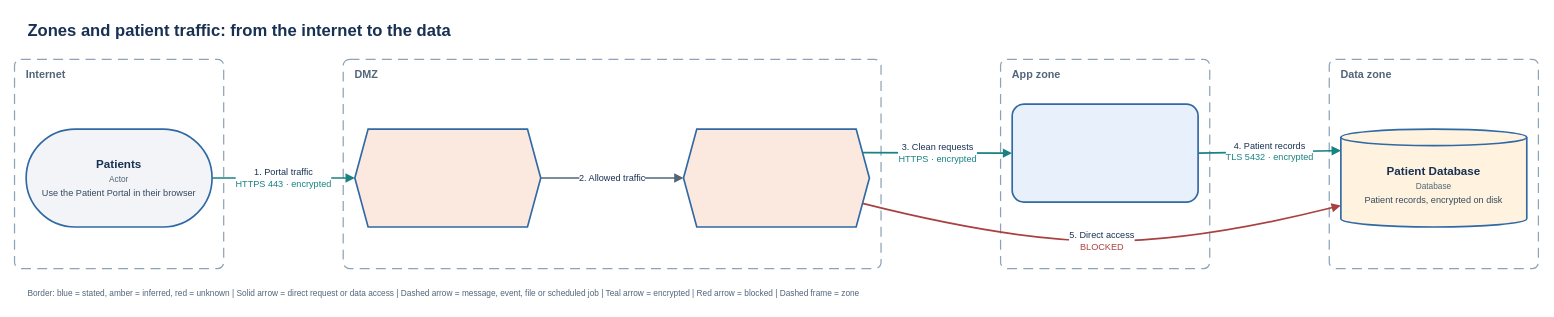
Image size: 1554x317. Some labels were removed from this diagram. Each missing label, with the box of its shape:
Edge Firewall Firewall Only allows HTTPS on port 443 and drops the rest: (354, 128, 541, 227)
Portal App Application The Patient Portal application. Stores no passwords.: (1011, 103, 1199, 203)
WAF WAF Blocks common web attacks: (682, 128, 870, 227)
